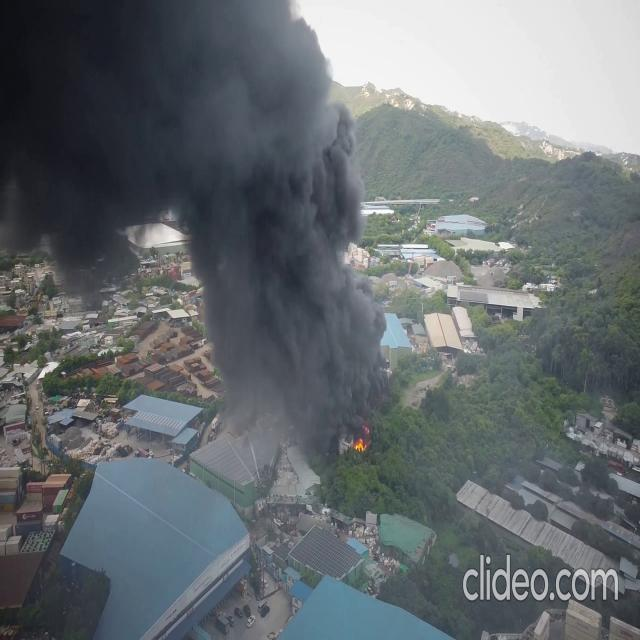Fire: (349, 428, 371, 456)
Smoke: (0, 1, 409, 443)
